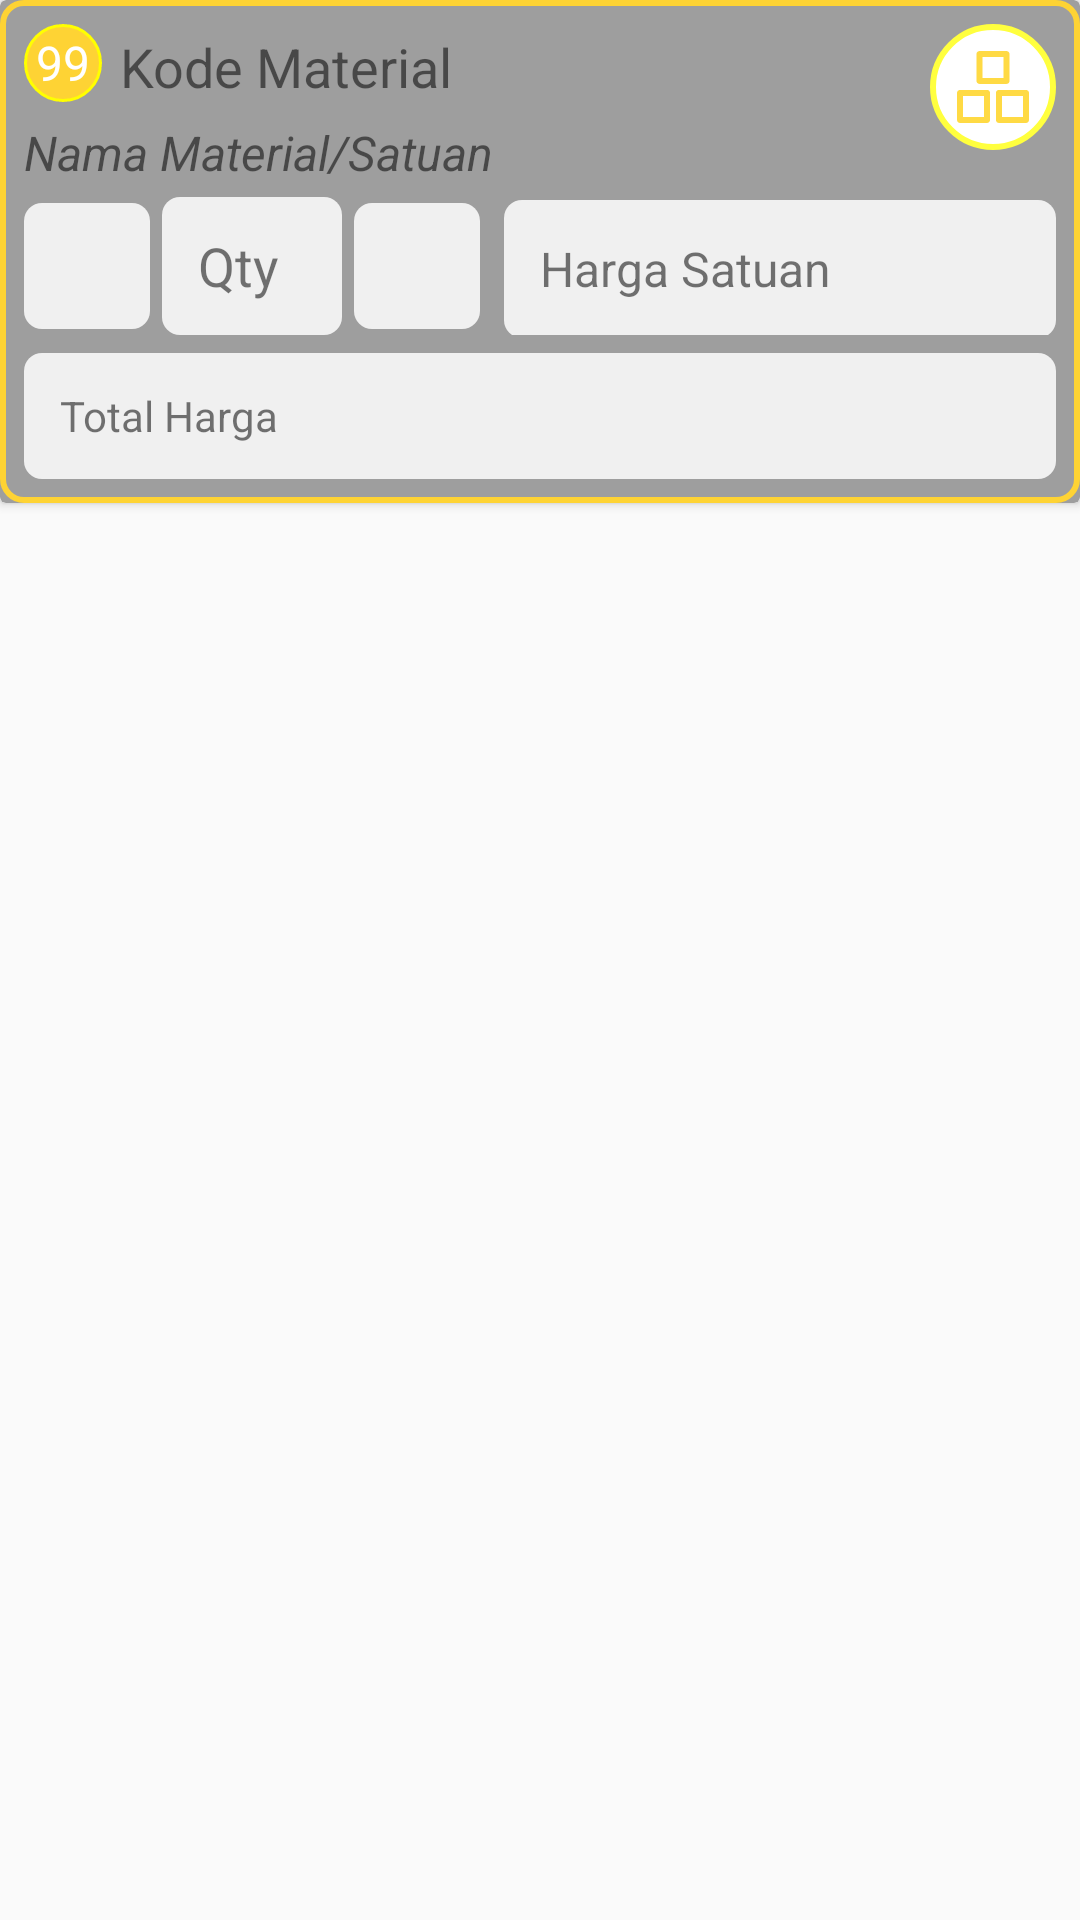

Icon bounding boxes for this 1080*1920 phone screenshot, format (x1, y1, x2, y2):
warehouse: (930, 24, 1056, 150)
